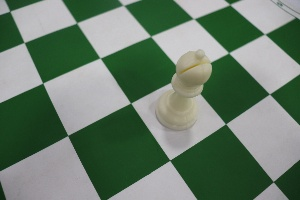white_bishop: (143, 25, 213, 137)
